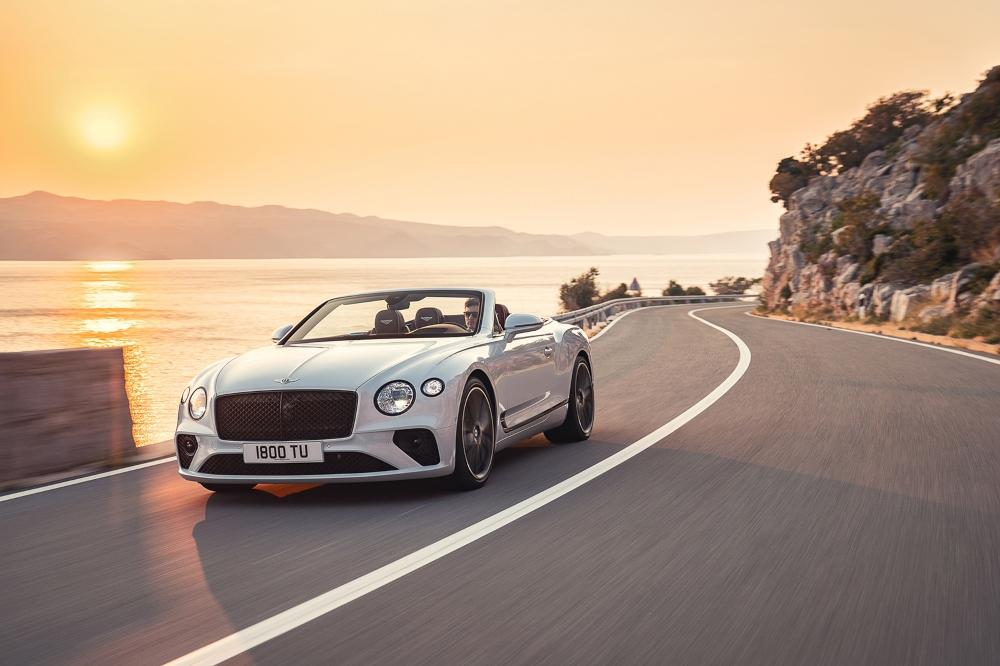car: (176, 260, 605, 503)
